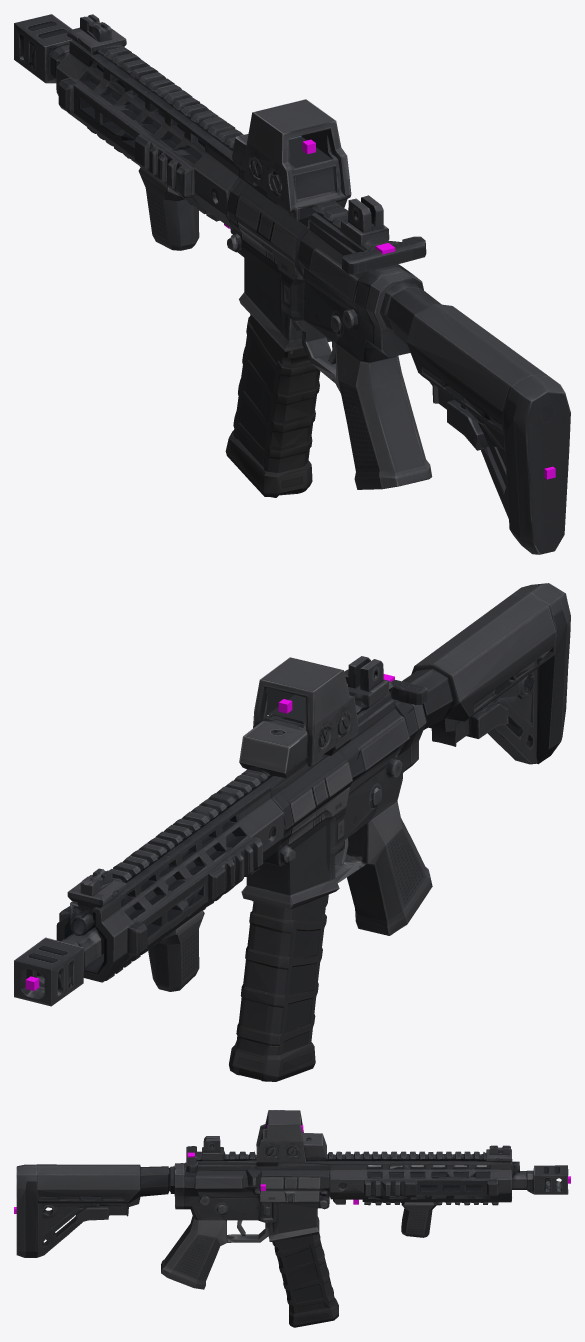
The model's file is Rifle_alt.glb.
3 views of the same model, one above another, from view 1: azimuth 30°, elevation 25°; view 2: azimuth 150°, elevation 25°; view 3: azimuth 270°, elevation 25° (orthographic). The views are drawn at different scales.
Parts seen in each view (by area): view 1: Skin_Body, Magazine, Bolt; view 2: Skin_Body, Magazine, Bolt; view 3: Skin_Body, Magazine.
Part boxes in pixels (<box>): Skin_Body: <box>14,14,570,554</box>; Magazine: <box>225,314,320,497</box>; Bolt: <box>342,236,426,274</box>; Skin_Body: <box>14,583,570,1006</box>; Magazine: <box>229,894,328,1081</box>; Bolt: <box>344,669,427,704</box>; Skin_Body: <box>16,1110,568,1289</box>; Magazine: <box>268,1224,338,1327</box>.
Bounding box in the file's own units: 0.4369 × 1.7 × 4.17.
4 materials, 4 textured.
